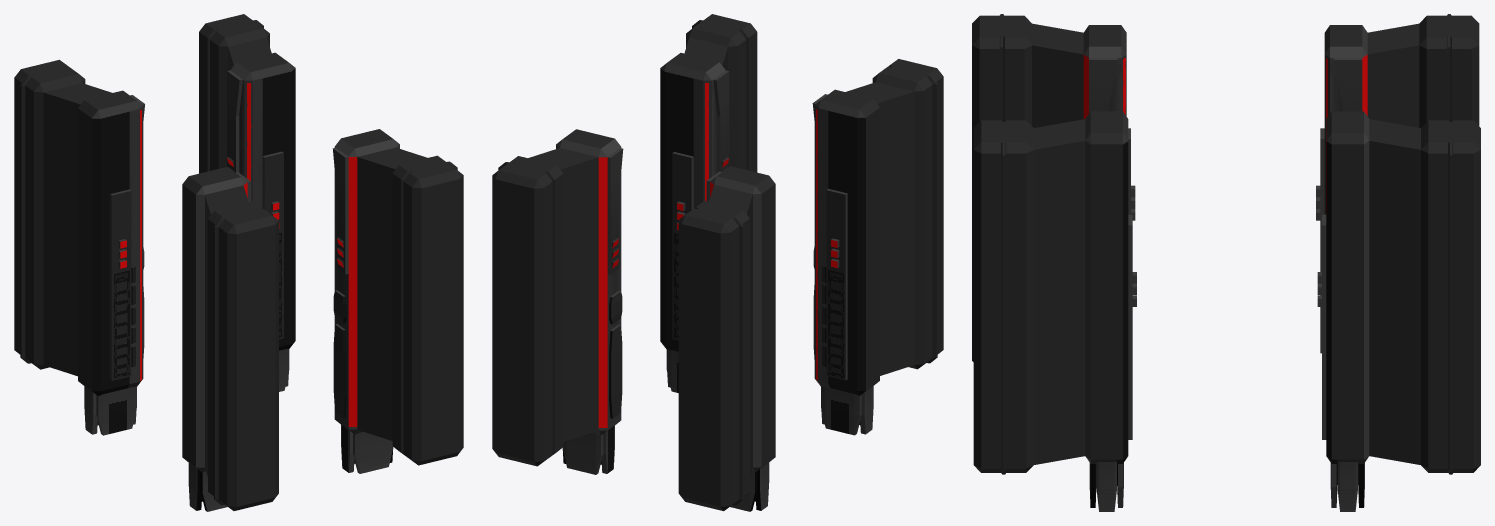
File: TurretDesign-v2.glb
3 views of the same model, side by side, from view 1: azimuth 30°, elevation 25°; view 2: azimuth 150°, elevation 25°; view 3: azimuth 270°, elevation 25° (orthographic). The views are drawn at different scales.
Visible parts, largest first — view 1: beveled_cuboid.004, beveled_cuboid.007, beveled_cuboid.005, beveled_cuboid.006; view 2: beveled_cuboid.005, beveled_cuboid.006, beveled_cuboid.004, beveled_cuboid.007; view 3: beveled_cuboid.007, beveled_cuboid.006, beveled_cuboid.004, beveled_cuboid.005.
Boxes of the visible parts, left/top/right/bottom form: beveled_cuboid.004: left=14, top=59, right=144, bottom=435; beveled_cuboid.007: left=332, top=129, right=463, bottom=473; beveled_cuboid.005: left=182, top=167, right=278, bottom=511; beveled_cuboid.006: left=199, top=14, right=295, bottom=391; beveled_cuboid.005: left=812, top=59, right=943, bottom=435; beveled_cuboid.006: left=492, top=129, right=623, bottom=474; beveled_cuboid.004: left=678, top=166, right=775, bottom=511; beveled_cuboid.007: left=660, top=14, right=757, bottom=392; beveled_cuboid.007: left=973, top=111, right=1136, bottom=511; beveled_cuboid.006: left=1317, top=111, right=1480, bottom=511; beveled_cuboid.004: left=1316, top=14, right=1479, bottom=353; beveled_cuboid.005: left=972, top=14, right=1135, bottom=361.
Bounding box in the file's own units: 5.38 × 6.9 × 8.43.
Materials: 8 (8 with a texture image).
